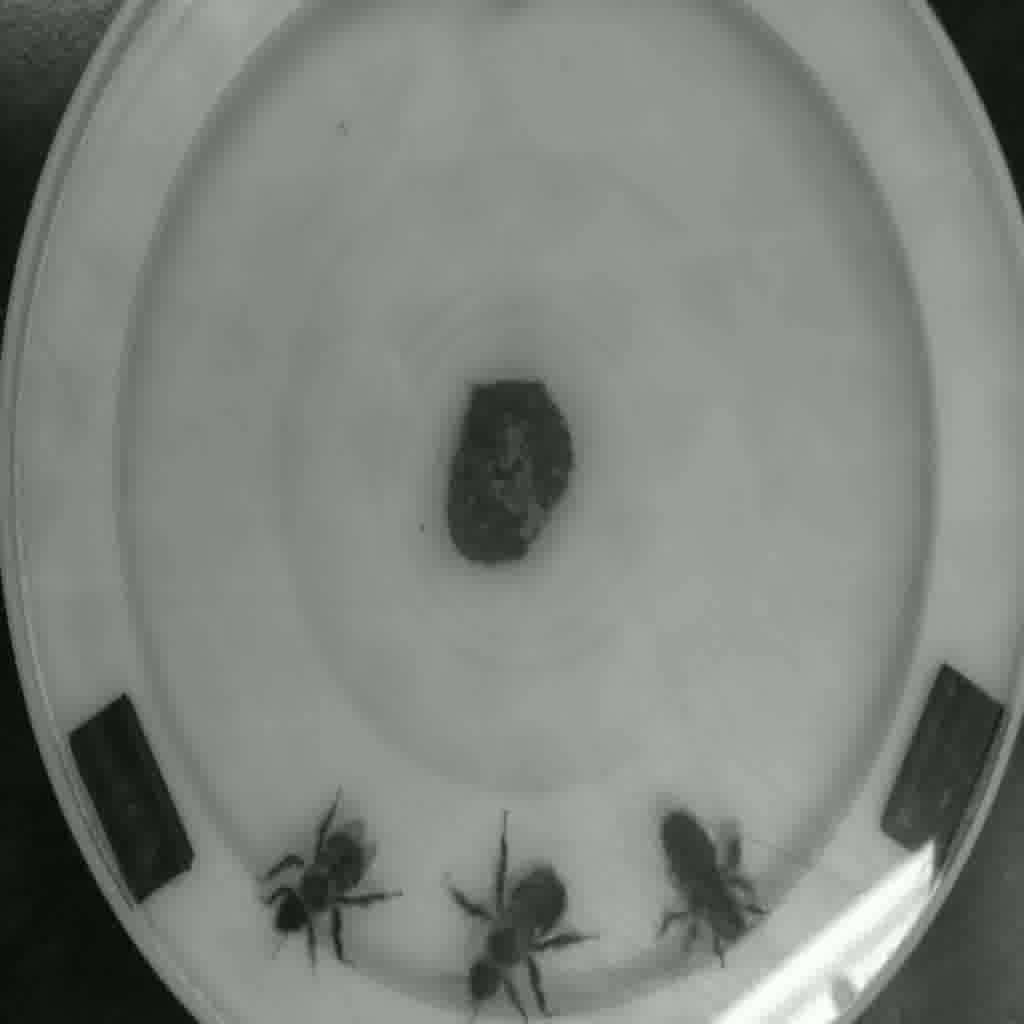bee: (651, 804, 767, 951), (269, 805, 385, 947), (466, 865, 572, 1000)
